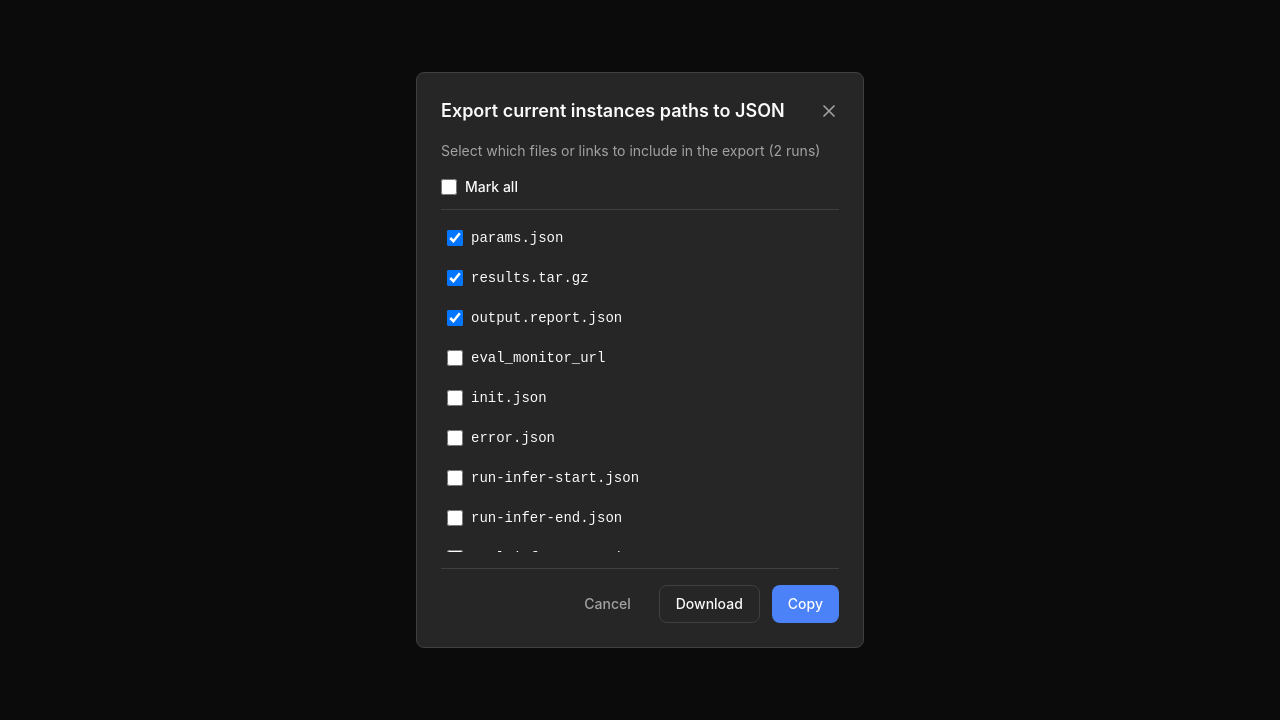
it: ExportPathsModal › disables export button when no files selected
Unmark all
Click the checkbox with test id "toggle-all-checkbox" at (449, 187), box [441, 179, 457, 195]
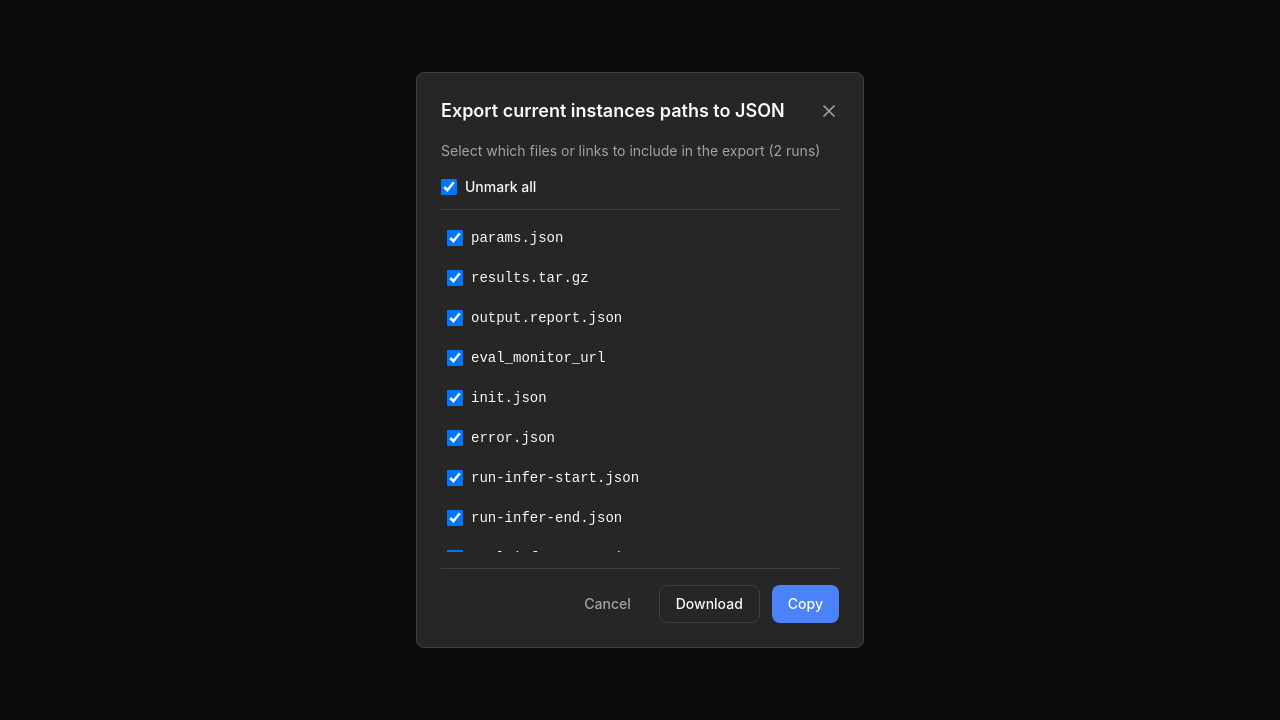
Click the checkbox with test id "toggle-all-checkbox" at (449, 187), box [441, 179, 457, 195]
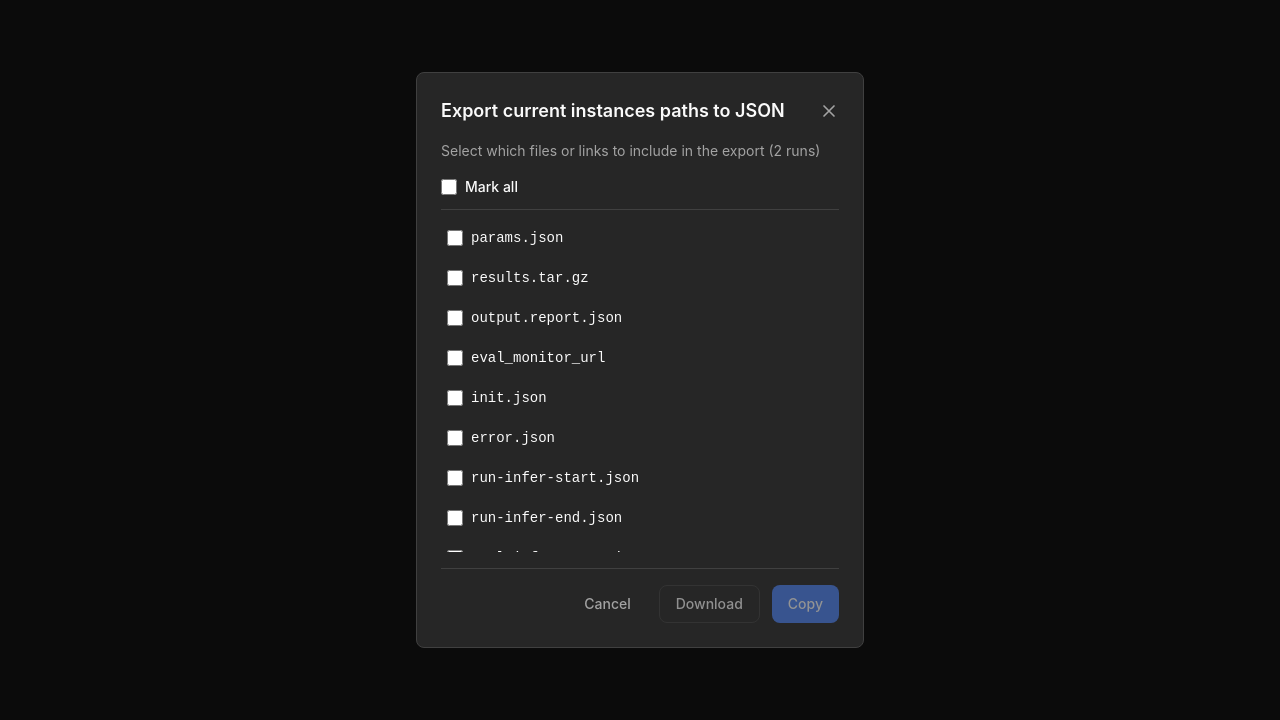
expect the button with test id "download-button" is disabled: met, box [659, 585, 760, 623]
